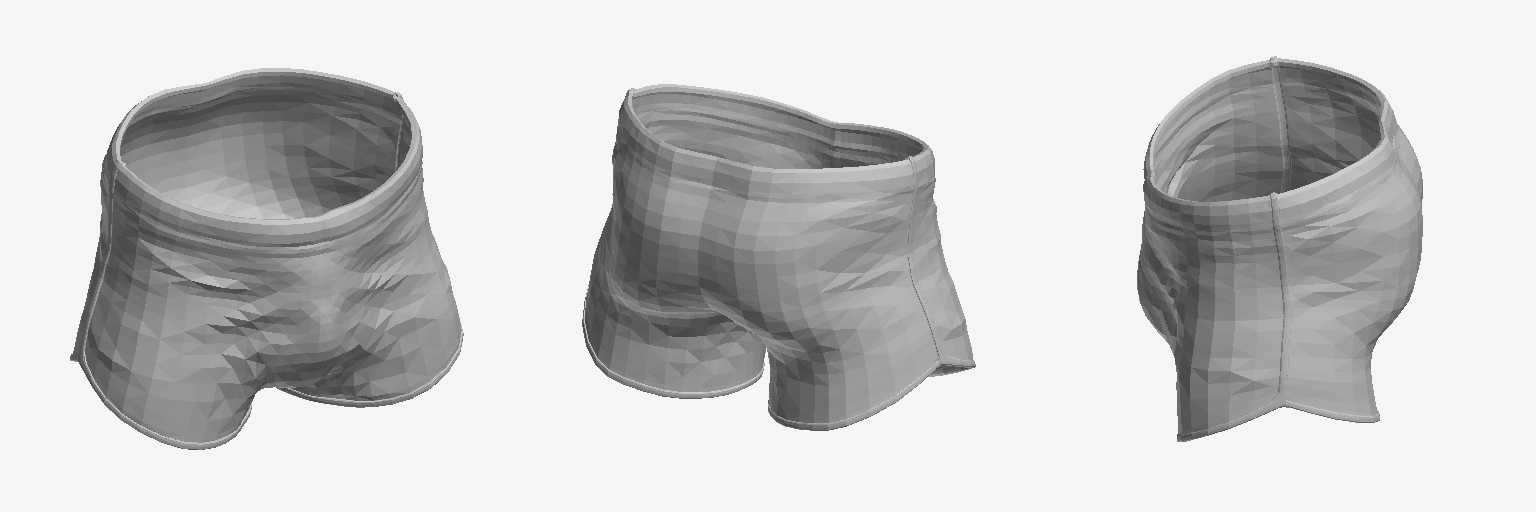
File: WorkoutShorts.OBJ
The picture shows the model from 3 angles: view 1: azimuth 30°, elevation 25°; view 2: azimuth 150°, elevation 25°; view 3: azimuth 270°, elevation 25°; orthographic projection.
Visible parts, largest first — view 1: ZBrushPolyMesh3D; view 2: ZBrushPolyMesh3D; view 3: ZBrushPolyMesh3D.
Boxes of the visible parts, x1=… form: ZBrushPolyMesh3D: x1=70, y1=68, x2=463, y2=449; ZBrushPolyMesh3D: x1=582, y1=84, x2=975, y2=430; ZBrushPolyMesh3D: x1=1137, y1=56, x2=1422, y2=441.
Size of the model in its own units: 43.82 by 32.27 by 30.37.